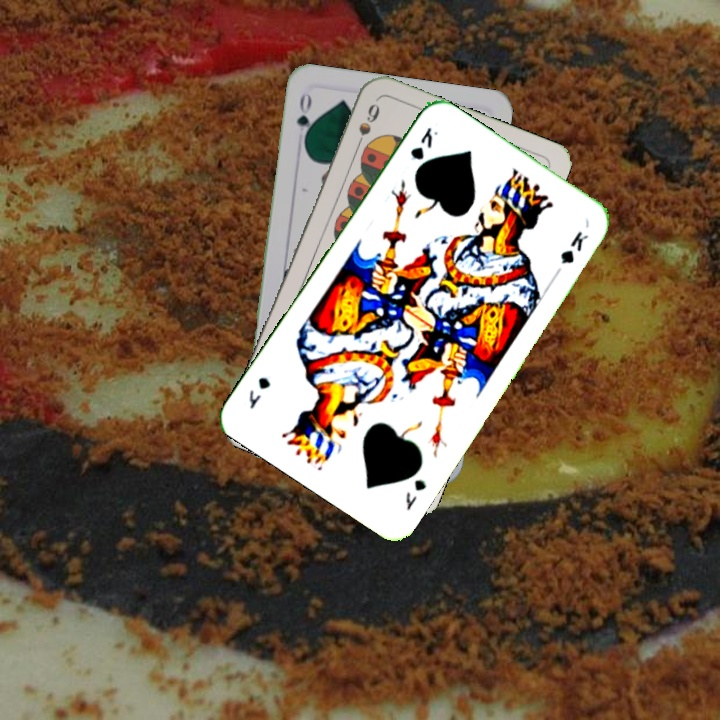GK: (406, 122, 441, 163), (401, 475, 429, 513)
GO: (292, 88, 315, 148)
S9: (351, 99, 383, 154)
